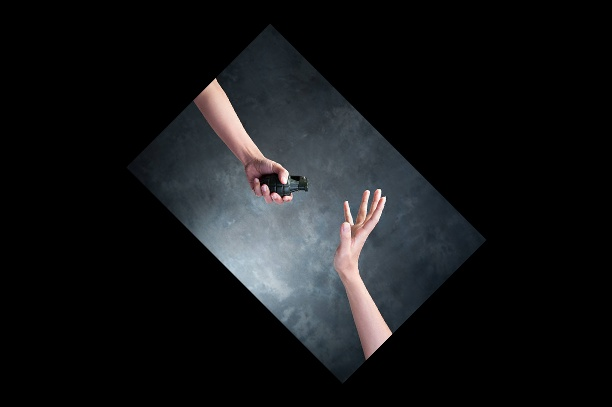e1: (251, 168, 309, 199)
